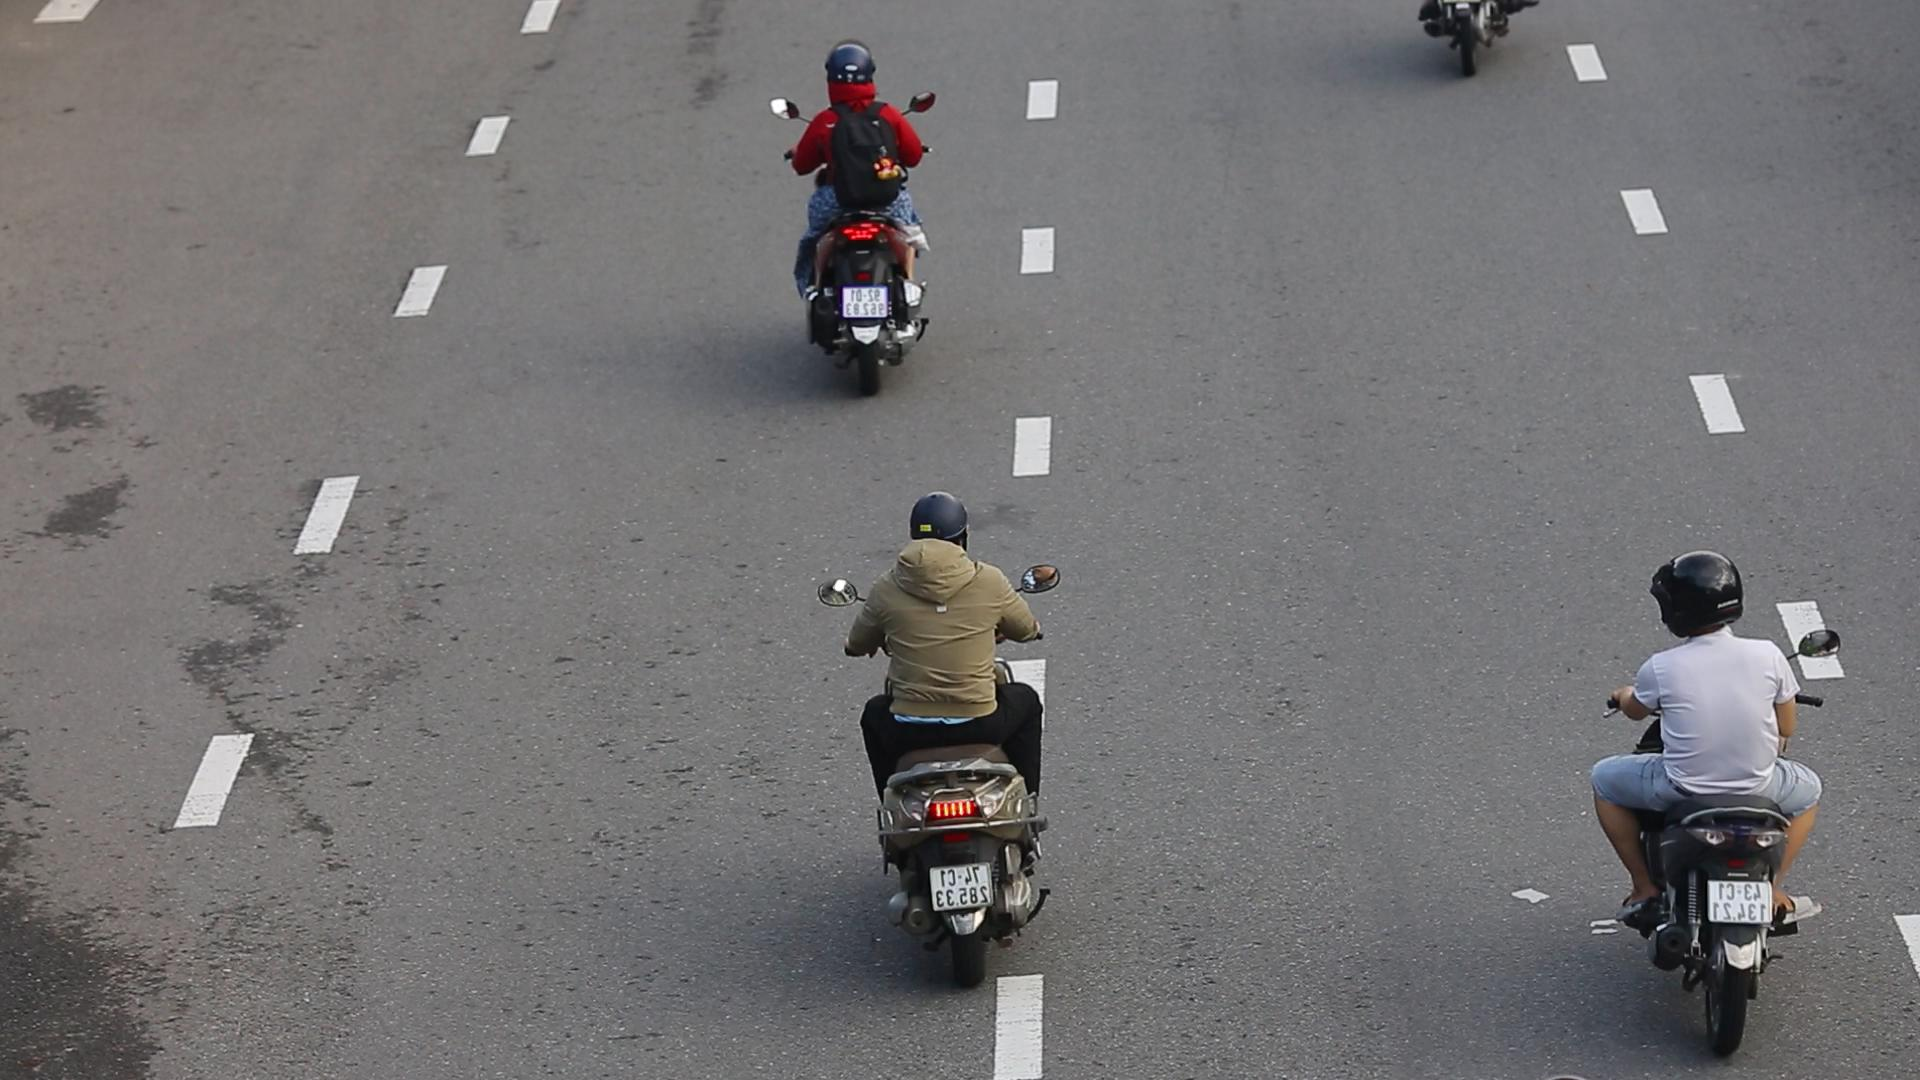motobike: (1582, 562, 1840, 1064), (835, 493, 1050, 985), (783, 40, 938, 384)
